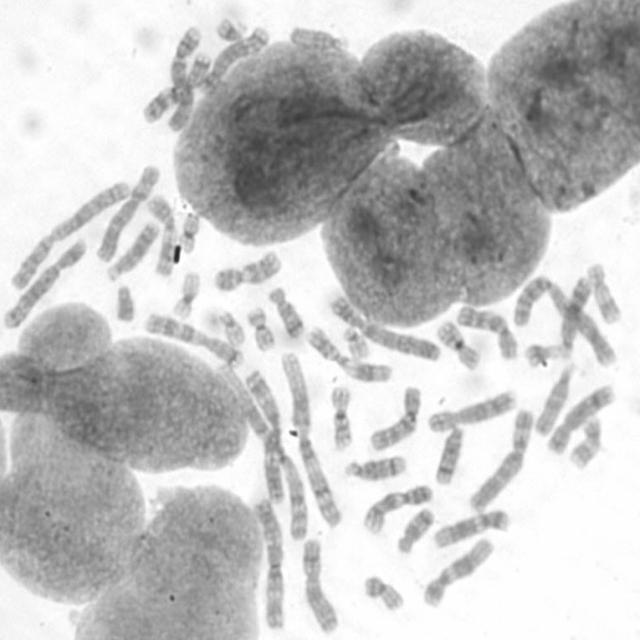A1: (240, 360, 310, 542), (276, 344, 342, 530)
A2: (4, 175, 132, 291), (507, 269, 618, 370)
A3: (240, 365, 288, 508), (248, 491, 288, 632)
B4: (326, 289, 442, 363), (162, 19, 202, 135)
B5: (0, 232, 88, 331), (195, 22, 271, 94)
C10: (364, 378, 424, 453), (454, 300, 522, 361)
C11: (303, 320, 395, 383), (144, 190, 179, 278)
C12: (418, 531, 494, 609), (428, 503, 512, 550)
C6: (464, 402, 536, 513), (93, 158, 161, 264)
C7: (140, 307, 247, 368), (139, 46, 214, 125)
C8: (543, 377, 619, 457), (423, 384, 519, 433)
C9: (359, 479, 435, 536), (209, 245, 284, 293)
D13: (102, 215, 161, 282), (555, 272, 594, 359)
D14: (430, 420, 467, 486), (340, 450, 410, 482)
D15: (530, 358, 578, 438), (287, 24, 356, 51)
E16: (432, 314, 484, 372), (326, 379, 356, 452)
E17: (583, 258, 624, 325), (565, 412, 605, 471)
E18: (265, 282, 307, 340), (392, 502, 437, 556)
F19: (166, 266, 202, 322), (177, 208, 201, 254)
F20: (358, 569, 407, 613), (243, 302, 278, 352)
G21: (521, 338, 566, 370), (212, 12, 248, 44)
G22: (214, 304, 247, 348), (338, 320, 373, 360)
X: (298, 530, 342, 636)
Y: (111, 279, 138, 323)
